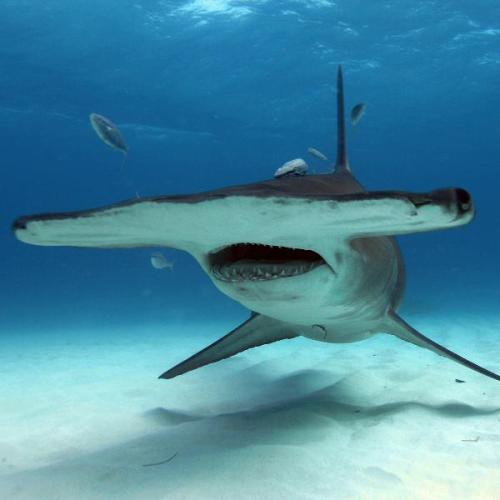shark-endangered: (15, 65, 500, 382)
